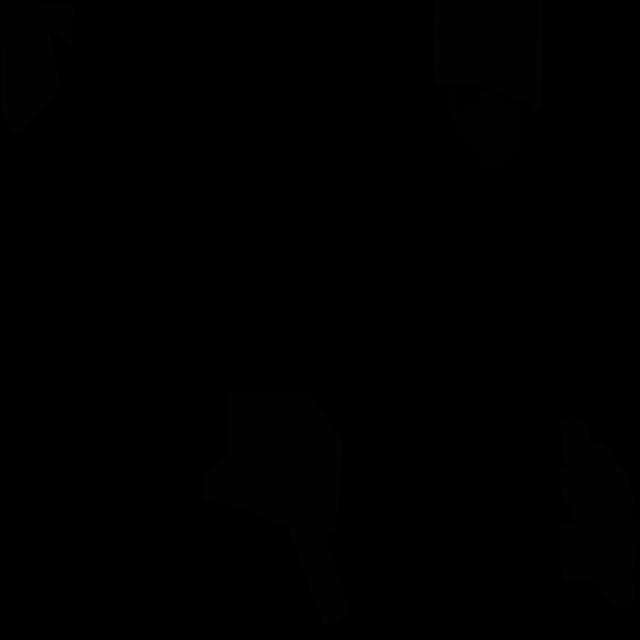cardboard: (203, 390, 348, 627), (558, 413, 640, 609), (432, 0, 543, 114), (0, 0, 75, 134)
rigid_plastic: (444, 87, 523, 170)
